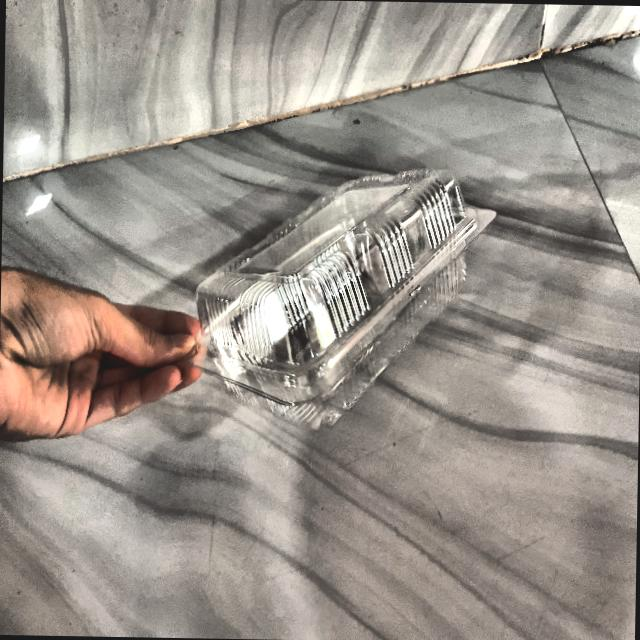plastic container: (203, 134, 508, 456)
